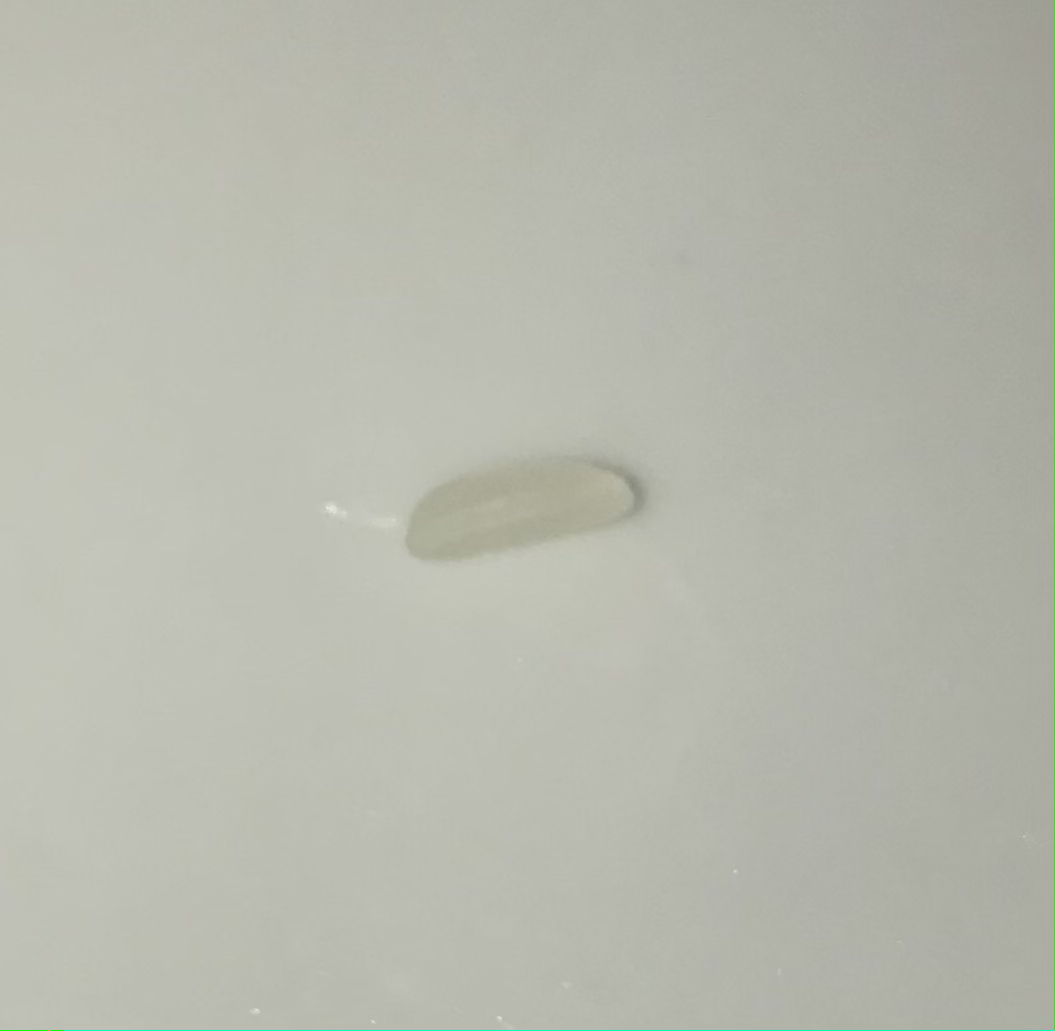Gao Thom Go Cong: (384, 414, 665, 578)
